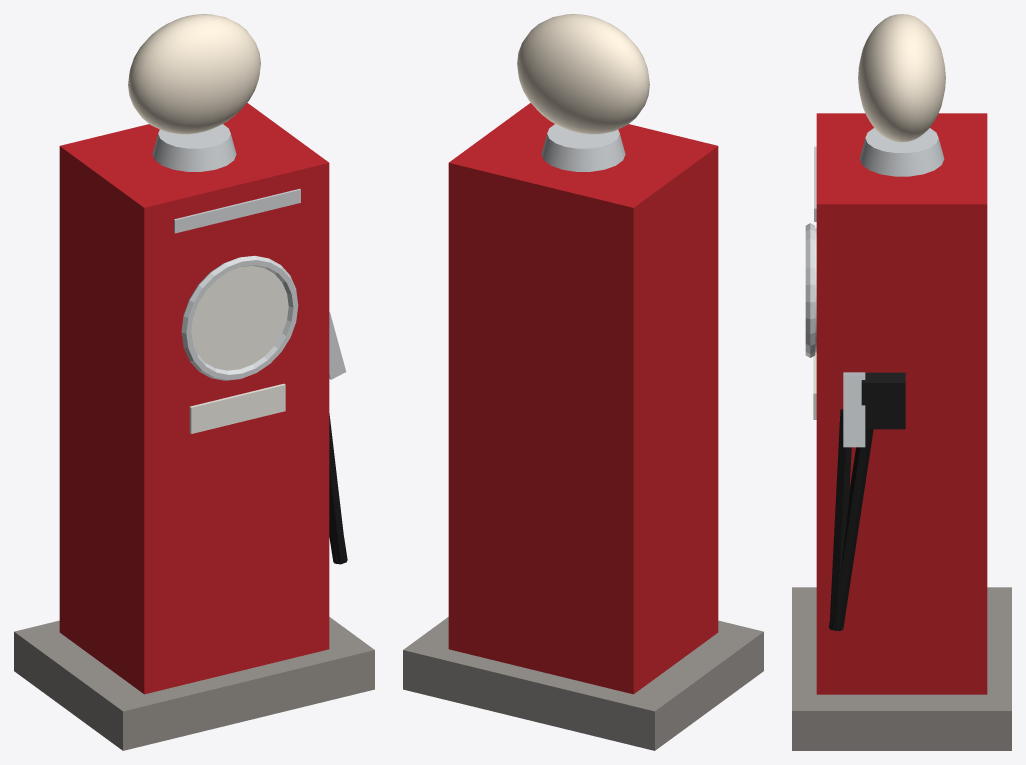
Rendered from gas-pump.glb.
The picture shows the model from 3 angles, left to right: view 1: azimuth 30°, elevation 25°; view 2: azimuth 150°, elevation 25°; view 3: azimuth 270°, elevation 25°; orthographic projection.
Parts seen in each view (by area): view 1: paint1, base0, glow_globe7, white2, chrome3, chrome6, white4, chrome5, hose10, chrome11; view 2: paint1, base0, glow_globe7, chrome6; view 3: paint1, base0, glow_globe7, chrome6, hose9, trim8, hose10, chrome11, chrome3.
Boxes of the visible parts, x1,y1,x2,y2 form: paint1: (59,103,329,694); base0: (14,617,374,750); glow_globe7: (128,14,260,134); white2: (191,266,288,370); chrome3: (181,255,298,380); chrome6: (152,124,236,171); white4: (189,383,285,433); chrome5: (174,188,300,233); hose10: (329,413,346,564); chrome11: (329,312,346,379); paint1: (448,103,718,694); base0: (403,617,763,750); glow_globe7: (517,14,649,134); chrome6: (541,124,625,171); paint1: (816,113,987,694); base0: (792,587,1011,750); glow_globe7: (858,14,945,142); chrome6: (859,128,944,176); hose9: (829,429,873,631); trim8: (861,372,905,429); hose10: (829,409,851,630); chrome11: (843,372,865,447); chrome3: (805,223,815,357).
Bounding box in the file's own units: 0.8 × 2.01 × 0.6.
